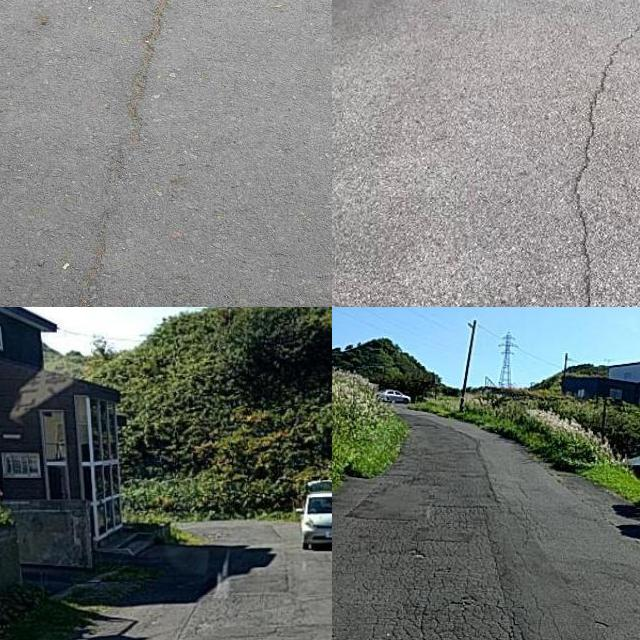Memanjang: (64, 0, 194, 307), (559, 5, 640, 307)
Retak Buaya: (332, 538, 518, 640)
